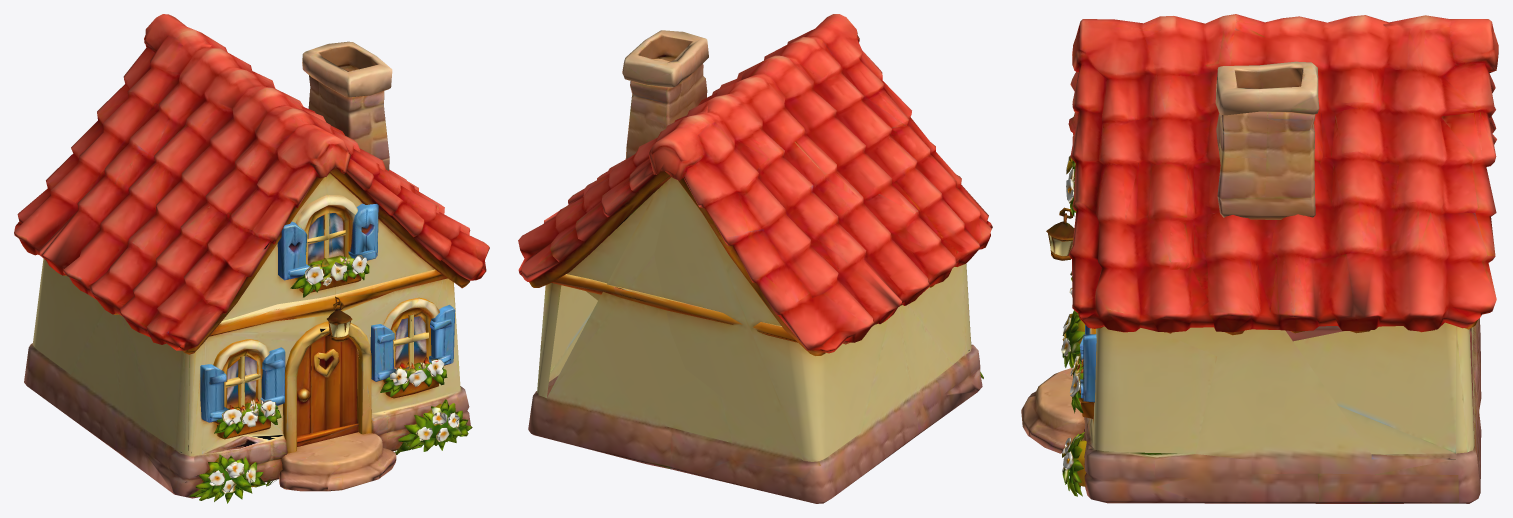
File: cottage_blue.glb
3 renders of one model, left to right at view 1: azimuth 30°, elevation 25°; view 2: azimuth 150°, elevation 25°; view 3: azimuth 270°, elevation 25°, orthographic. The views are drawn at different scales.
Visible parts, largest first — view 1: geometry_0; view 2: geometry_0; view 3: geometry_0.
Part boxes in pixels (x1,y1,x2,y2): geometry_0: (14,14,489,503); geometry_0: (518,14,992,503); geometry_0: (1021,14,1498,503).
Bounding box in the file's own units: 0.9531 × 0.8755 × 0.9292.
1 material, 1 textured.
